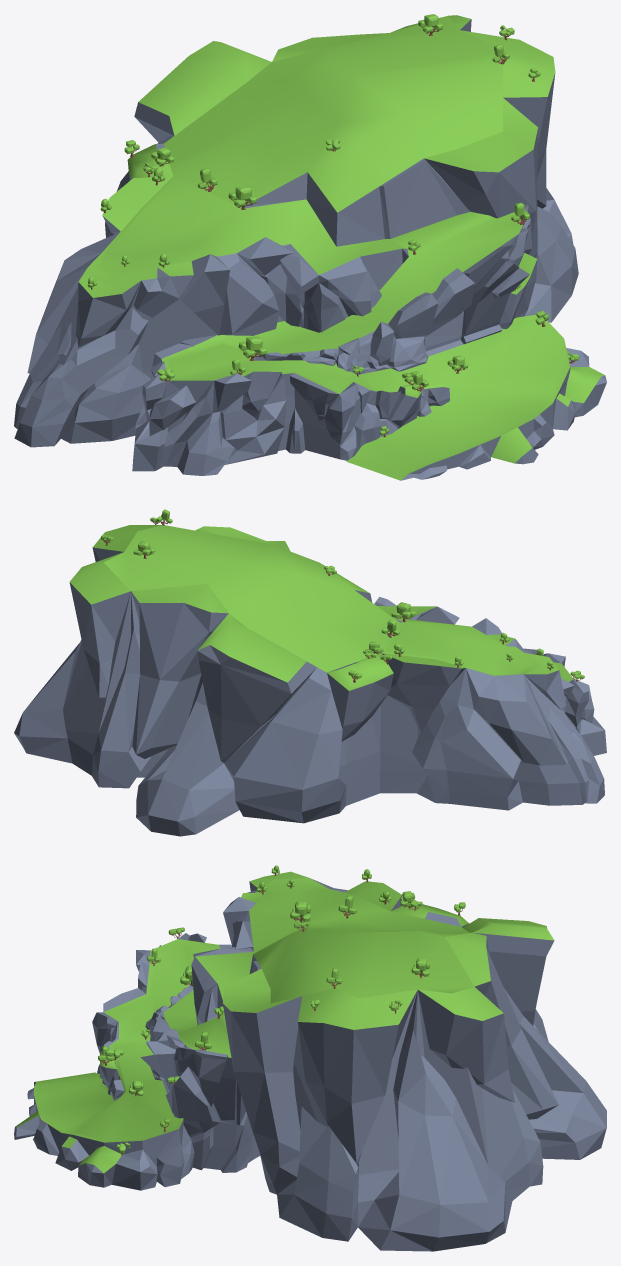
Rendered from geostructures_no2.fbx.
The picture shows the model from 3 angles, top to bottom: view 1: azimuth 30°, elevation 25°; view 2: azimuth 150°, elevation 25°; view 3: azimuth 270°, elevation 25°; orthographic projection. The views are drawn at different scales.
Parts seen in each view (by area): view 1: landform_02shrubbed:geology, landform_02shrubbed:shrubs; view 2: landform_02shrubbed:geology, landform_02shrubbed:shrubs; view 3: landform_02shrubbed:geology, landform_02shrubbed:shrubs.
Part boxes in pixels (x1,y1,x2,y2): landform_02shrubbed:geology: [14, 15, 606, 480]; landform_02shrubbed:shrubs: [88, 14, 578, 437]; landform_02shrubbed:geology: [14, 525, 606, 836]; landform_02shrubbed:shrubs: [101, 509, 584, 682]; landform_02shrubbed:geology: [14, 871, 606, 1251]; landform_02shrubbed:shrubs: [98, 865, 465, 1155].
Size of the model in its own units: 82087 by 33308 by 74704.
